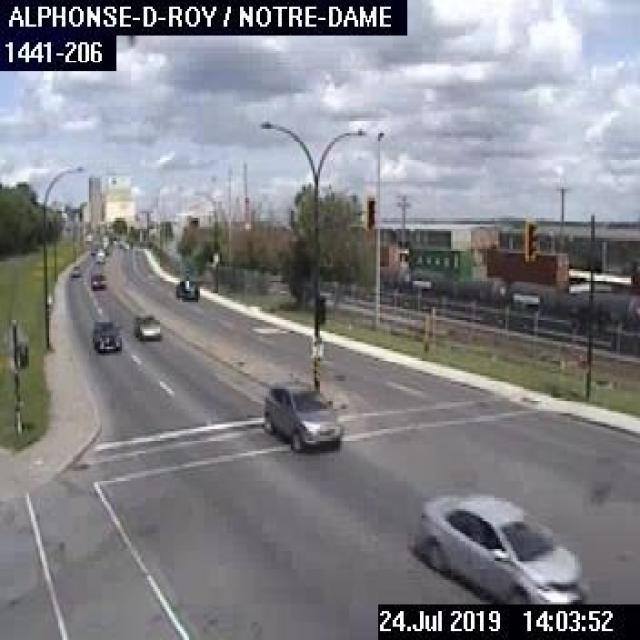vehicle: (416, 491, 584, 602), (258, 378, 344, 451), (89, 318, 120, 351), (135, 313, 158, 338), (173, 278, 196, 298), (67, 261, 81, 278), (89, 271, 102, 287)
